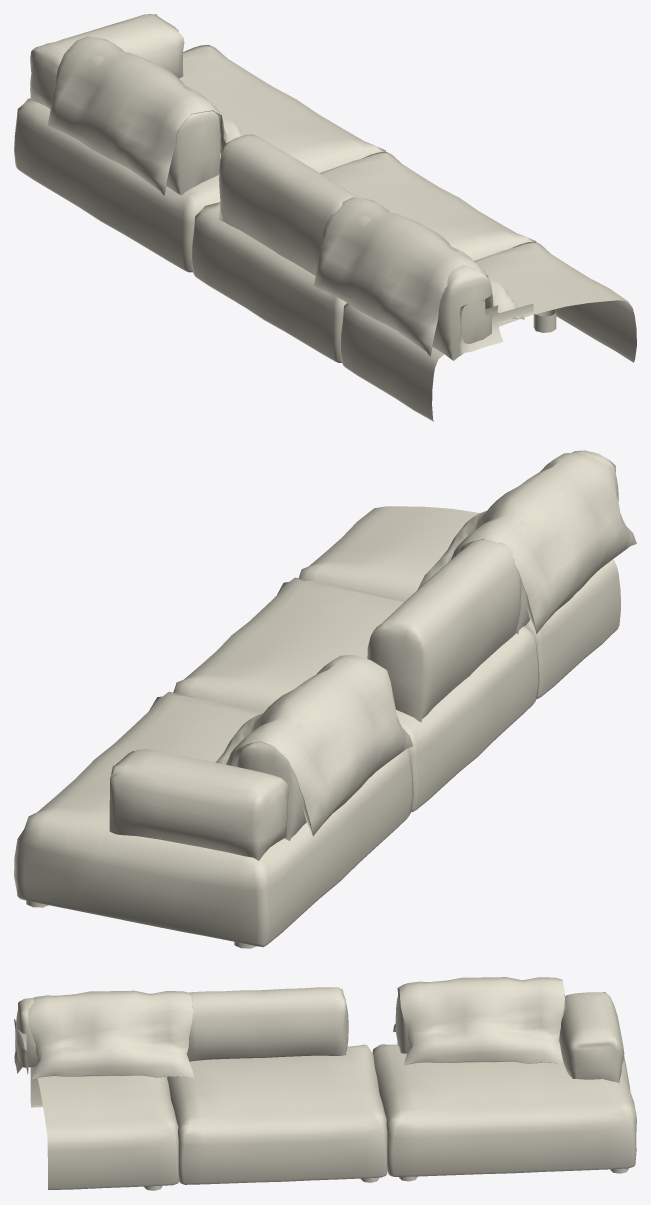
Rendered from Sofa.fbx.
The picture shows the model from 3 angles, top to bottom: view 1: azimuth 30°, elevation 25°; view 2: azimuth 150°, elevation 25°; view 3: azimuth 270°, elevation 25°; orthographic projection. The views are drawn at different scales.
Parts seen in each view (by area): view 1: Sofa; view 2: Sofa; view 3: Sofa.
Part boxes in pixels (bbox=[...]): Sofa: bbox=[14, 14, 636, 421]; Sofa: bbox=[14, 450, 636, 948]; Sofa: bbox=[14, 977, 636, 1190].
Size of the model in its own units: 137 by 76.28 by 332.
